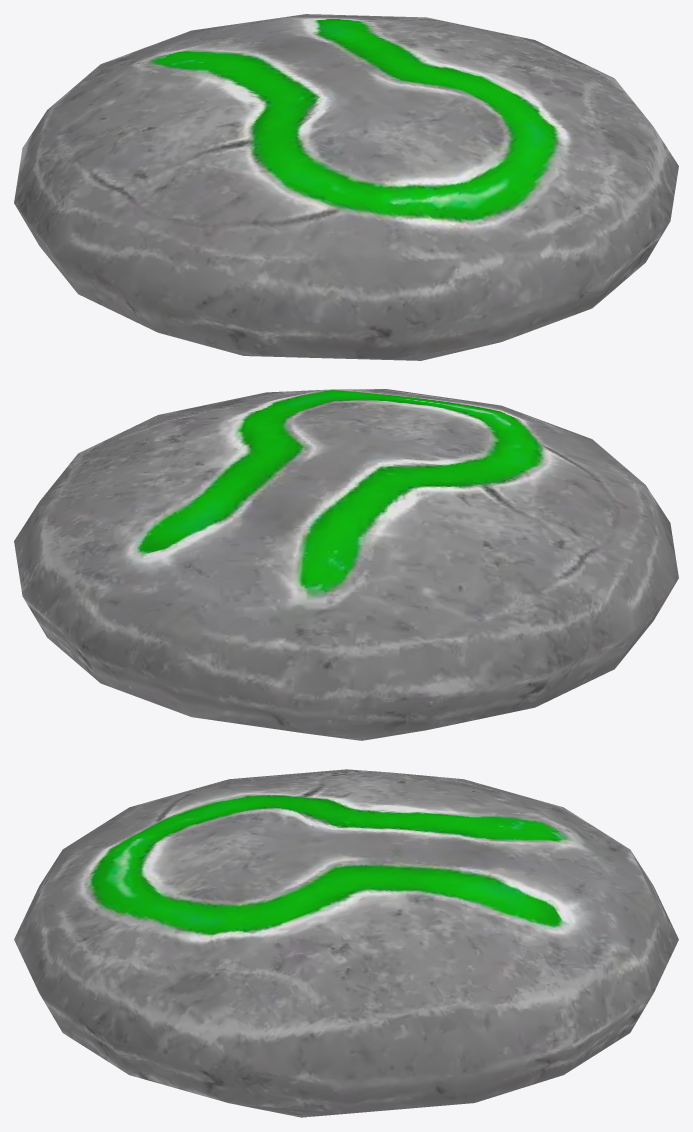
3 renders of one model, top to bottom at view 1: azimuth 30°, elevation 25°; view 2: azimuth 150°, elevation 25°; view 3: azimuth 270°, elevation 25°, orthographic.
Visible parts, largest first — view 1: SM_Nature_Rune_01_LOD0; view 2: SM_Nature_Rune_01_LOD0; view 3: SM_Nature_Rune_01_LOD0.
Boxes of the visible parts, x1=… form: SM_Nature_Rune_01_LOD0: x1=14, y1=14, x2=678, y2=360; SM_Nature_Rune_01_LOD0: x1=14, y1=389, x2=678, y2=740; SM_Nature_Rune_01_LOD0: x1=14, y1=769, x2=678, y2=1117.
Size of the model in its own units: 0.2232 by 0.0792 by 0.2232.
1 material, 1 textured.
